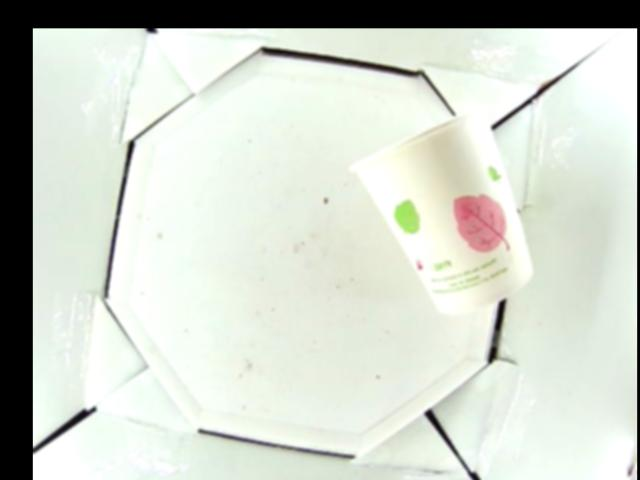Cup: (350, 99, 534, 317)
